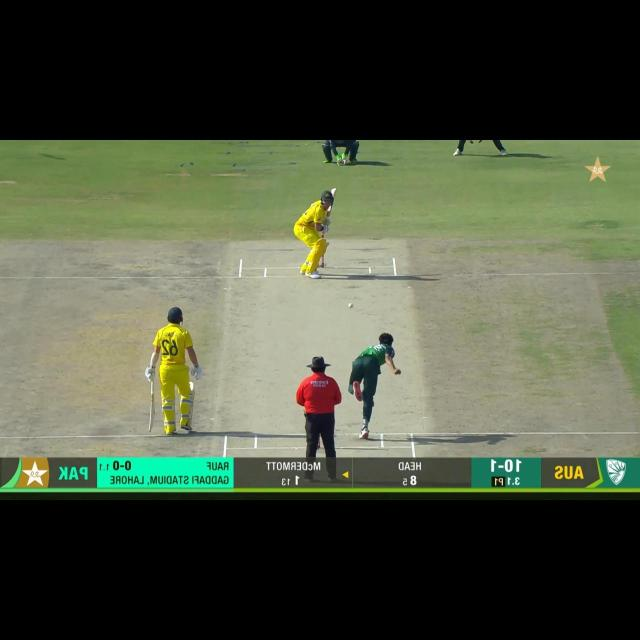bat: (320, 185, 340, 240), (145, 389, 156, 434)
toe: (327, 186, 339, 197), (146, 420, 154, 432)
